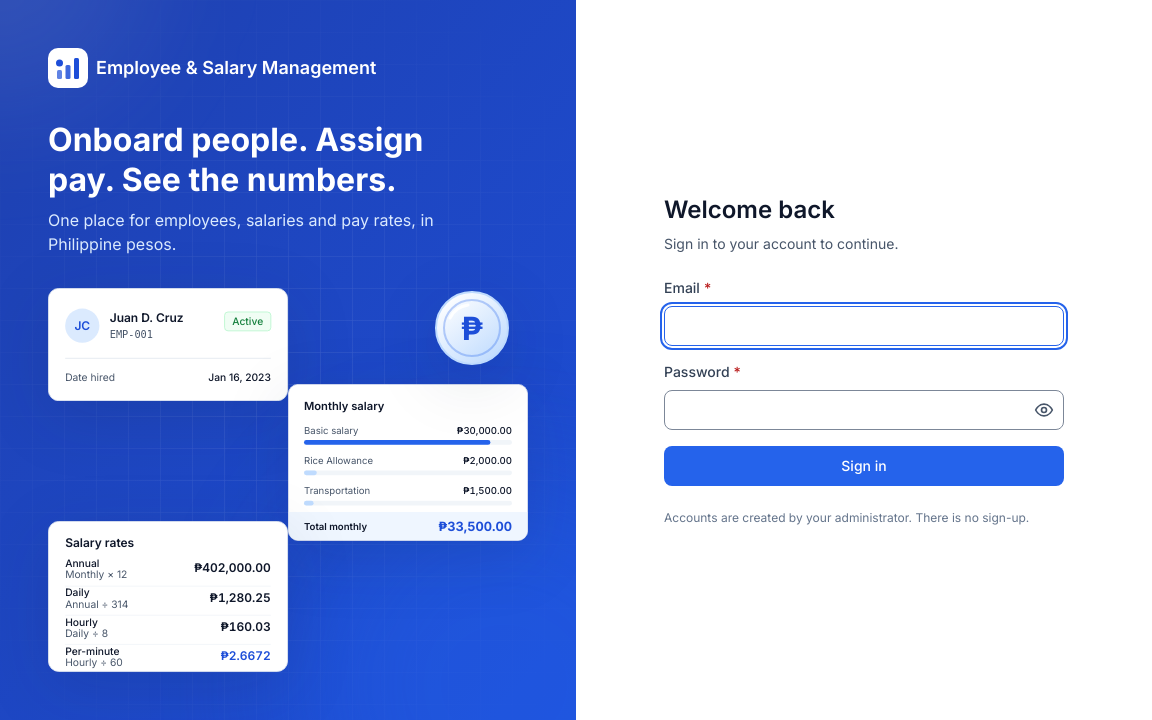
Test: LoginForm › disables the button and marks it busy while signing in, so it cannot be submitted twice
Expected: the button "Sign in" is shown, [664,446,1064,486]
Type "admin@example.com" into the field labelled "Email*" at (864, 326), box [664,306,1064,346]
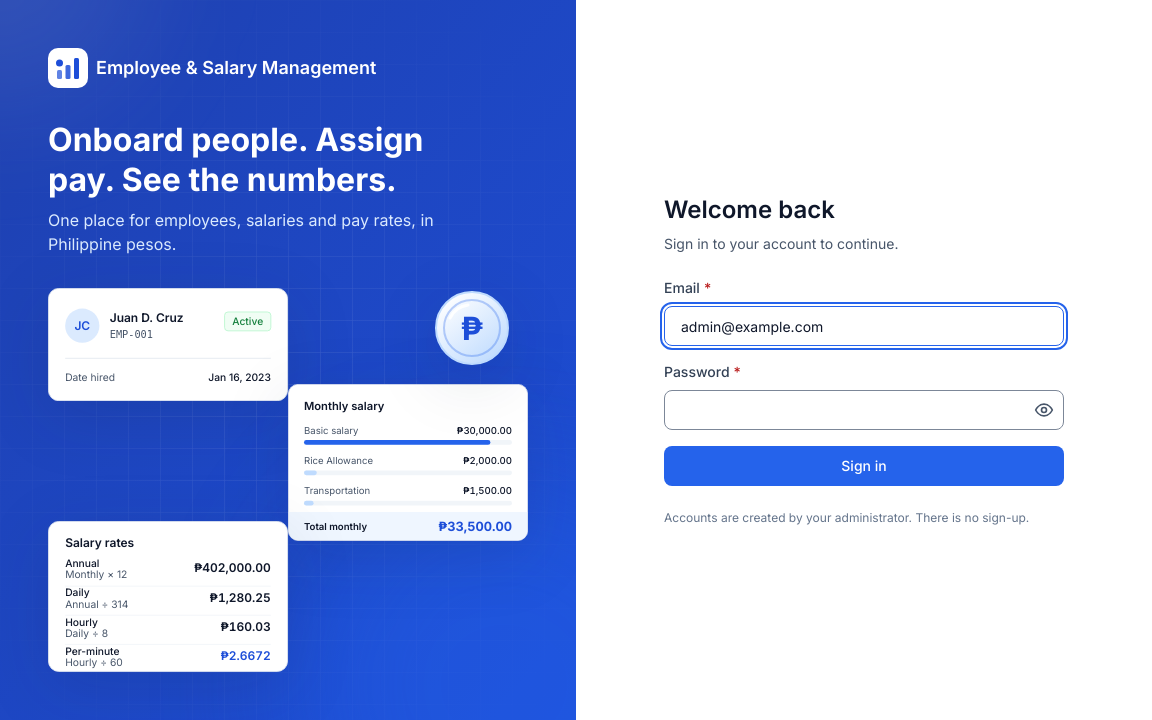
Type "correct-password" into the password field labelled "Password*" at (864, 410), box [664,390,1064,430]
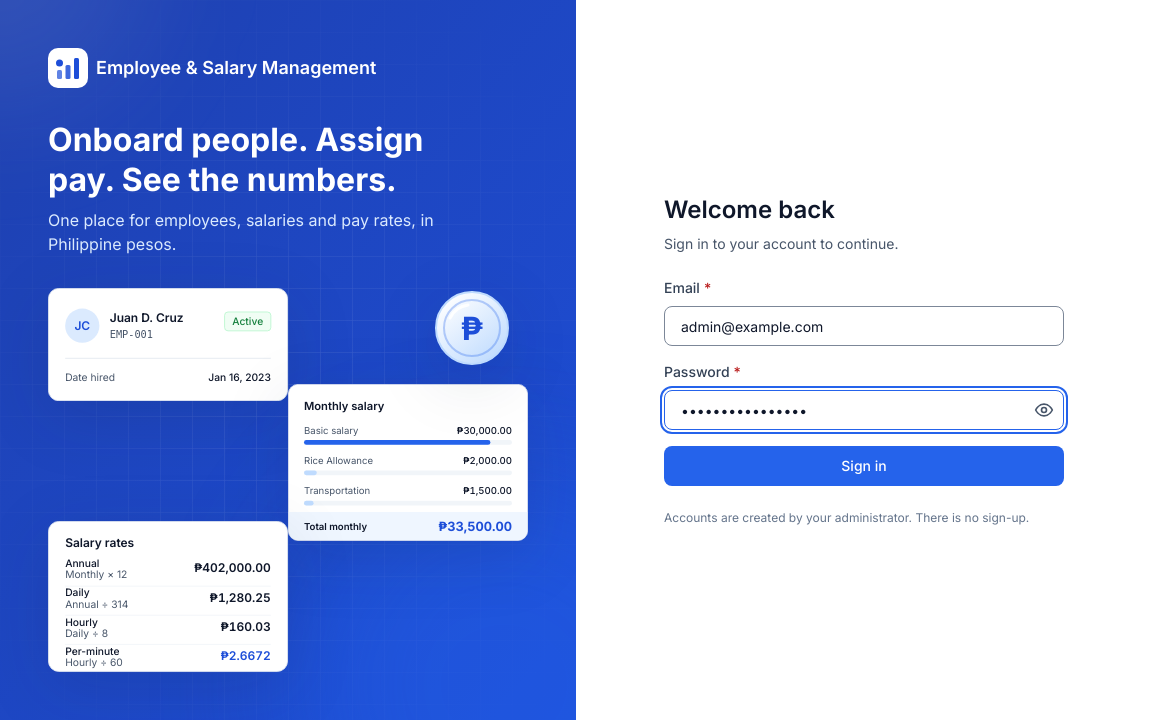
Click the button "Sign in" at (864, 466), box [664,446,1064,486]
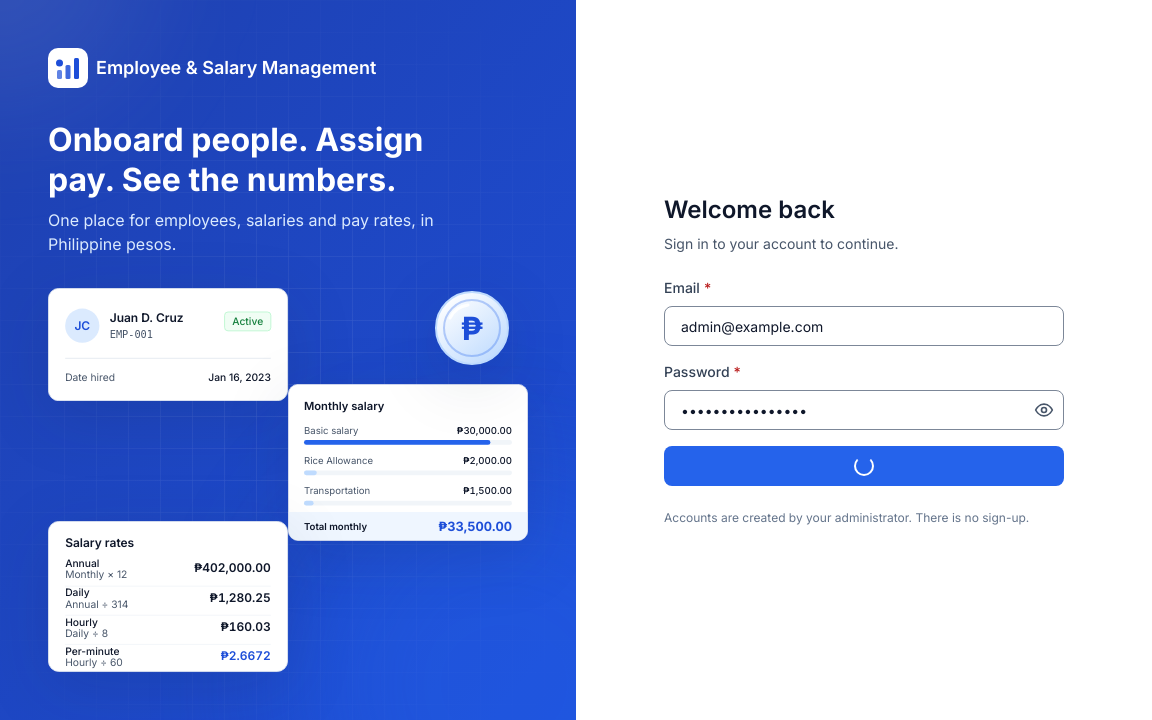
Expected: the button named "sign in" is disabled
Click the button named "sign in" at (864, 466), box [664,446,1064,486]
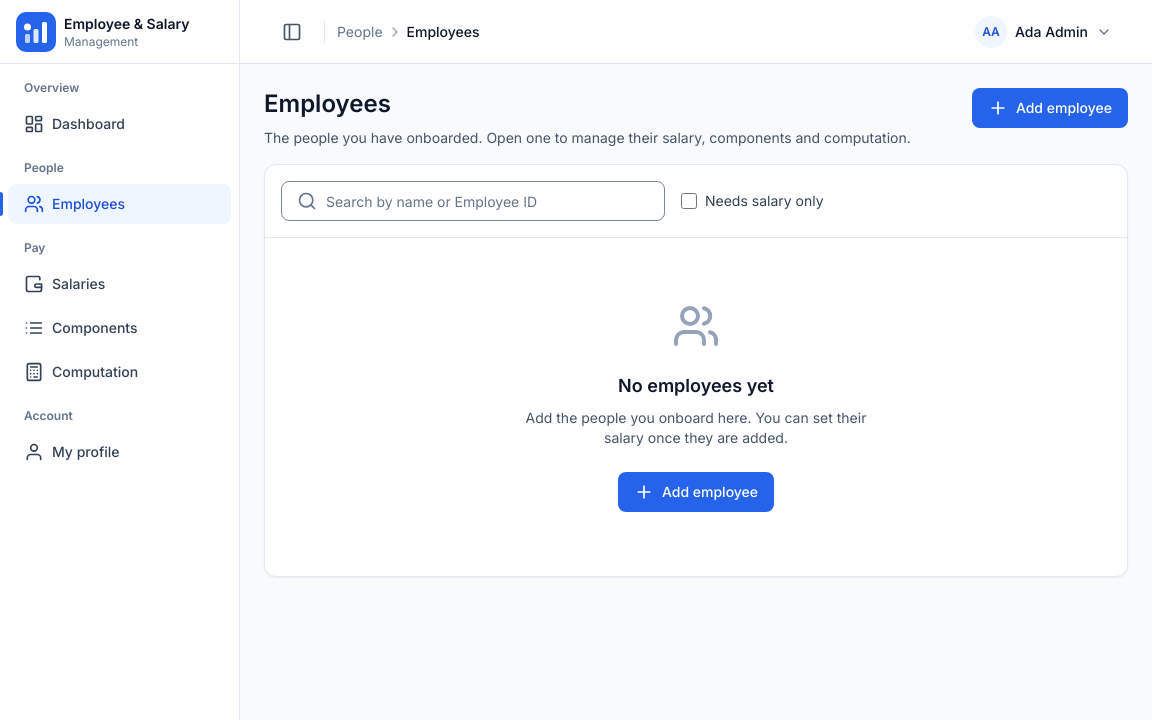
Expected: the heading "Employees" is shown, [264,89,391,118]
